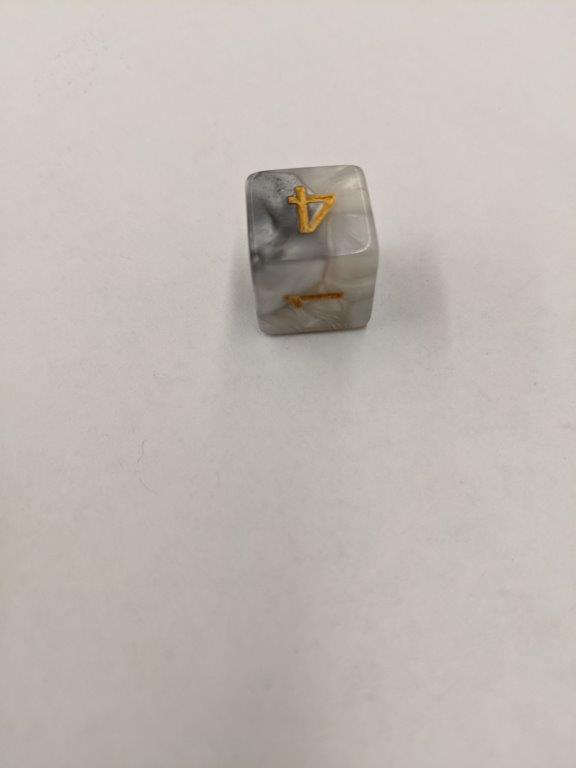d6-4: (244, 164, 377, 341)
